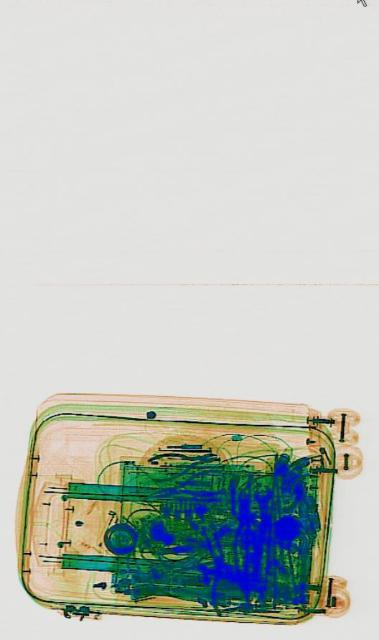Pliers: (146, 460, 221, 514), (146, 442, 217, 484)
Wrench: (252, 484, 274, 548)
